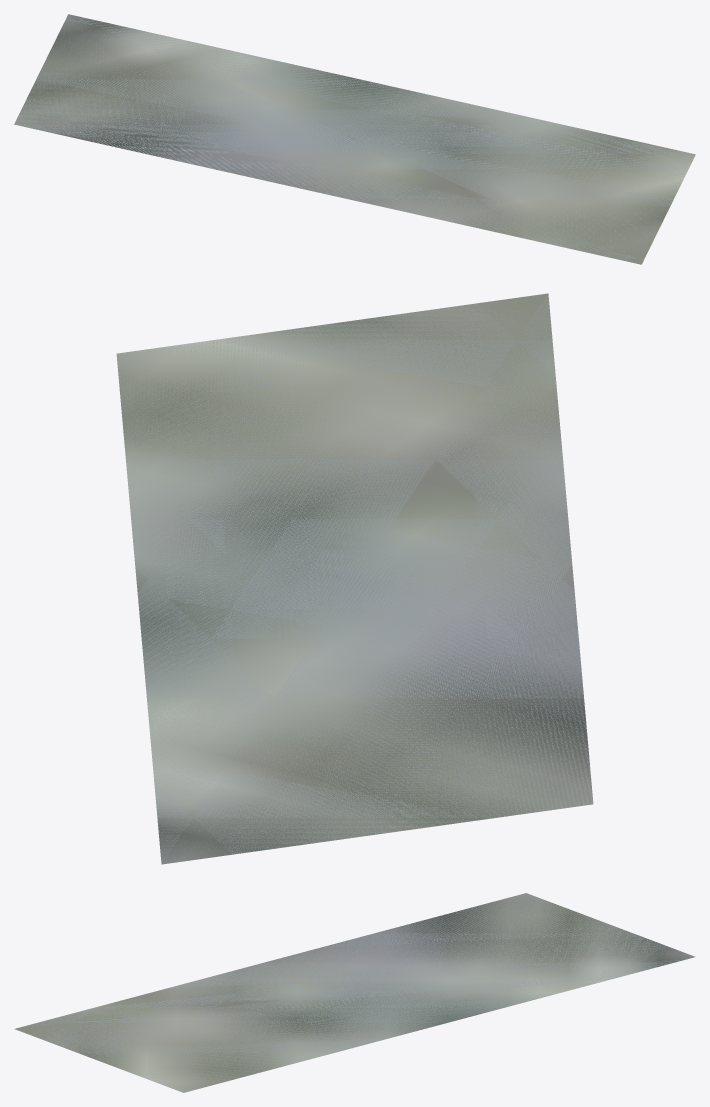
The model's file is 西庸城堡300.dae.
3 views of the same model, one above another, from view 1: azimuth 30°, elevation 25°; view 2: azimuth 150°, elevation 25°; view 3: azimuth 270°, elevation 25° (orthographic). The views are drawn at different scales.
Parts seen in each view (by area): view 1: SketchUp; view 2: SketchUp; view 3: SketchUp.
Part boxes in pixels (x1=…): SketchUp: x1=14, y1=14, x2=695, y2=264; SketchUp: x1=116, y1=293, x2=593, y2=864; SketchUp: x1=14, y1=893, x2=695, y2=1092.
Bounding box in the file's own units: 42.63 × 61.45 × 0.
Materials: 2 (1 with a texture image).
